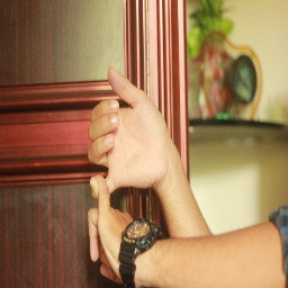S: (76, 64, 173, 278)
